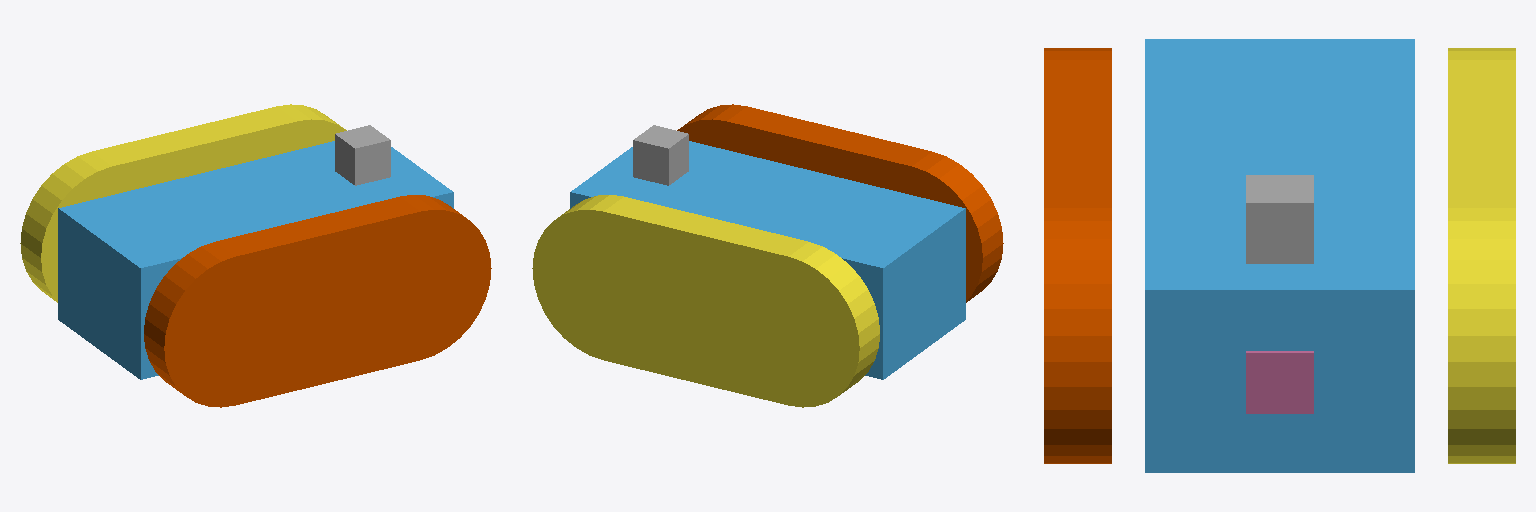
The robot description file, URDF, robot "skidbot":
<?xml version="1.0" ?>
<!-- =================================================================================== -->
<!-- |    This document was autogenerated by xacro from [local-path]/gcamp_ros2_ws/src/gcamp_ros2_basic/gcamp_gazebo/urdf/diffbot.urdf.xacro | -->
<!-- |    EDITING THIS FILE BY HAND IS NOT RECOMMENDED                                 | -->
<!-- =================================================================================== -->
<robot name="skidbot">
  <!-- diff_drive controller -->
  <gazebo>
    <plugin filename="libgazebo_ros_diff_drive.so" name="diff_drive">
      <!-- wheels -->
      <left_joint>front_left_wheel_joint</left_joint>
      <right_joint>front_right_wheel_joint</right_joint>
      <!-- kinematics -->
      <wheel_separation>0.4</wheel_separation>
      <wheel_diameter>0.18</wheel_diameter>
      <!-- limits -->
      <max_wheel_torque>10</max_wheel_torque>
      <max_wheel_acceleration>1.0</max_wheel_acceleration>
      <!-- output -->
      <publish_odom>true</publish_odom>
      <publish_odom_tf>true</publish_odom_tf>
      <publish_wheel_tf>true</publish_wheel_tf>
      <odometry_frame>odom</odometry_frame>
      <robot_base_frame>base_footprint</robot_base_frame>
    </plugin>
  </gazebo>
  <!-- camera -->
  <gazebo reference="camera">
    <sensor name="camera_sensor" type="camera">
      <update_rate>30.0</update_rate>
      <always_on>1</always_on>
      <camera name="camera">
        <horizontal_fov>1.3962634</horizontal_fov>
        <image>
          <width>800</width>
          <height>800</height>
          <format>R8G8B8</format>
        </image>
        <clip>
          <near>0.02</near>
          <far>300</far>
        </clip>
        <distortion>
          <k1>0.0</k1>
          <k2>0.0</k2>
          <k3>0.0</k3>
          <p1>0.0</p1>
          <p2>0.0</p2>
          <center>0.5 0.5</center>
        </distortion>
      </camera>
      <plugin filename="libgazebo_ros_camera.so" name="camera_controller">
        <ros>
	        <argument>--ros-args --remap camera/image_raw:=/camera/image</argument>
          <argument>--ros-args --remap camera/camera_info:=/camera/image/camera_info</argument>
        </ros>
        <camera_name>camera_sensor</camera_name>
        <frame_name>base_link</frame_name>
        <hack_baseline>0.07</hack_baseline>
      </plugin>
    </sensor>
  </gazebo>
  <!-- hokuyo -->
  <gazebo reference="hokuyo">
    <sensor name="head_hokuyo_sensor" type="ray">
      <pose>0 0 0 0 0 0</pose>
      <visualize>true</visualize>
      <update_rate>40</update_rate>
      <ray>
        <scan>
          <horizontal>
            <samples>720</samples>
            <resolution>1</resolution>
            <min_angle>-1.570796</min_angle>
            <max_angle>1.570796</max_angle>
          </horizontal>
        </scan>
        <range>
          <min>0.10</min>
          <max>30.0</max>
          <resolution>0.01</resolution>
        </range>
        <noise>
          <type>gaussian</type>
          <!-- Noise parameters based on published spec for Hokuyo laser
                achieving "+-30mm" accuracy at range < 10m.  A mean of 0.0m and
                stddev of 0.01m will put 99.7% of samples within 0.03m of the true
                reading. -->
          <mean>0.0</mean>
          <stddev>0.01</stddev>
        </noise>
      </ray>
      <update_rate>30</update_rate>
      <plugin filename="libgazebo_ros_ray_sensor.so" name="gazebo_ros_head_hokuyo_controller">
        <ros>
          <remapping>~/out:=scan</remapping>
        </ros>
        <output_type>sensor_msgs/LaserScan</output_type>
      </plugin>
    </sensor>
  </gazebo>
  <link name="base_footprint"/>
  <joint name="base_footprint_joint" type="fixed">
    <origin rpy="0 0 0" xyz="0 0 0"/>
    <parent link="base_footprint"/>
    <child link="base_link"/>
  </joint>
  <link name="base_link">
    <pose>0 0 0.1 0 0 0</pose>
    <inertial>
      <mass value="15.0"/>
      <origin rpy=" 0 0 0" xyz="0.0 0 0"/>
      <inertia ixx="0.1" ixy="0" ixz="0" iyy="0.1" iyz="0" izz="0.1"/>
    </inertial>
    <collision name="collision">
      <origin rpy=" 0 0 0" xyz="0 0 0"/>
      <geometry>
        <box size=".44 .2 .15"/>
      </geometry>
    </collision>
    <visual name="chassis_visual">
      <origin rpy=" 0 0 0" xyz="0 0 0"/>
      <geometry>
        <box size=".44 .2 .15"/>
      </geometry>
    </visual>
    <collision name="back_caster_collision">
      <origin rpy=" 0 0 0" xyz="-0.15 0 -0.05"/>
      <geometry>
        <sphere radius="0.0499"/>
      </geometry>
    </collision>
    <visual name="back_caster_visual">
      <origin rpy=" 0 0 0" xyz="-0.15 0 -0.05"/>
      <geometry>
        <sphere radius="0.05"/>
      </geometry>
    </visual>
    <collision name="front_caster_collision">
      <origin rpy=" 0 0 0" xyz="0.15 0 -0.05"/>
      <geometry>
        <sphere radius="0.0499"/>
      </geometry>
    </collision>
    <visual name="front_caster_visual">
      <origin rpy=" 0 0 0" xyz="0.15 0 -0.05"/>
      <geometry>
        <sphere radius="0.05"/>
      </geometry>
    </visual>
  </link>
  <link name="front_left_wheel">
    <inertial>
      <mass value="8.0"/>
      <origin rpy=" 0 1.5707 1.5707" xyz="0.0 0 0"/>
      <inertia ixx="0.1" ixy="0" ixz="0" iyy="0.1" iyz="0" izz="0.1"/>
    </inertial>
    <collision>
      <origin rpy=" 0 1.5707 1.5707" xyz="0.0 0 0"/>
      <geometry>
        <cylinder length="0.05" radius="0.1"/>
      </geometry>
    </collision>
  </link>
  <!-- <link name="back_left_wheel"> -->
  <!-- Dummy -->
  <!-- </link> -->
  <link name="left_track">
    <visual name="left_track_visual">
      <origin rpy="1.5708 0 1.5708" xyz="0 0 0"/>
      <geometry>
        <box size="0.05 0.2 0.26"/>
      </geometry>
    </visual>
    <visual name="left_track_visual_1">
      <origin rpy="1.5708 -0 0" xyz="0.13 0 0"/>
      <geometry>
        <cylinder length="0.05" radius="0.1"/>
      </geometry>
    </visual>
    <visual name="left_track_visual_2">
      <origin rpy="1.5708 -0 0" xyz="-0.13 0 0"/>
      <geometry>
        <cylinder length="0.05" radius="0.1"/>
      </geometry>
    </visual>
  </link>
  <link name="front_right_wheel">
    <inertial>
      <mass value="8.0"/>
      <origin rpy=" 0 1.5707 1.5707" xyz="0.0 0 0"/>
      <inertia ixx="0.1" ixy="0" ixz="0" iyy="0.1" iyz="0" izz="0.1"/>
    </inertial>
    <collision>
      <origin rpy=" 0 1.5707 1.5707" xyz="0.0 0 0"/>
      <geometry>
        <cylinder length="0.05" radius="0.1"/>
      </geometry>
    </collision>
  </link>
  <!-- <link name="back_right_wheel"> -->
  <!-- Dummy -->
  <!-- </link> -->
  <link name="right_track">
    <visual name="right_track_visual">
      <origin rpy="1.5708 0 1.5708" xyz="0 0 0"/>
      <geometry>
        <box size="0.05 0.2 0.26"/>
      </geometry>
    </visual>
    <visual name="right_track_visual_1">
      <origin rpy="1.5708 -0 0" xyz="0.13 0 0"/>
      <geometry>
        <cylinder length="0.05" radius="0.1"/>
      </geometry>
    </visual>
    <visual name="right_track_visual_2">
      <origin rpy="1.5708 -0 0" xyz="-0.13 0 0"/>
      <geometry>
        <cylinder length="0.05" radius="0.1"/>
      </geometry>
    </visual>
  </link>
  <link name="camera">
    <inertial>
      <mass value="0.1"/>
      <origin rpy=" 0 0 0" xyz="0.05 0.05 0.05"/>
      <inertia ixx="1e-6" ixy="0" ixz="0" iyy="1e-6" iyz="0" izz="1e-6"/>
    </inertial>
    <visual name="camera_visual">
      <origin rpy="0 0 0" xyz="0 0 0"/>
      <geometry>
        <box size="0.05 0.05 0.05"/>
      </geometry>
    </visual>
    <collision name="camera_colision">
      <origin rpy="0 0 0" xyz="0 0 0"/>
      <geometry>
        <box size="0.05 0.05 0.05"/>
      </geometry>
    </collision>
  </link>
  <link name="hokuyo">
    <inertial>
      <mass value="1e-5"/>
      <origin rpy=" 0 0 0" xyz="0 0 0"/>
      <inertia ixx="1e-6" ixy="0" ixz="0" iyy="1e-6" iyz="0" izz="1e-6"/>
    </inertial>
    <visual name="hokuyo_visual">
      <origin rpy="0 0 0" xyz="0 0 0"/>
      <geometry>
        <box size="0.05 0.05 0.05"/>
      </geometry>
    </visual>
    <collision name="hokuyo_colision">
      <origin rpy="0 0 0" xyz="0 0 0"/>
      <geometry>
        <box size="0.1 0.1 0.1"/>
      </geometry>
    </collision>
  </link>
  <joint name="front_left_wheel_joint" type="continuous">
    <origin rpy="0 0 0" xyz="0.0 0.15 0"/>
    <child link="front_left_wheel"/>
    <parent link="base_link"/>
    <axis rpy="0 0 0" xyz="0 1 0"/>
    <limit effort="10000" velocity="1000"/>
    <dynamics damping="1.0" friction="1.0"/>
  </joint>
  <joint name="front_right_wheel_joint" type="continuous">
    <origin rpy="0 0 0" xyz="0.0 -0.15 0"/>
    <child link="front_right_wheel"/>
    <parent link="base_link"/>
    <axis rpy="0 0 0" xyz="0 1 0"/>
    <limit effort="10000" velocity="1000"/>
    <dynamics damping="1.0" friction="1.0"/>
  </joint>
  <joint name="right_track_joint" type="fixed">
    <origin rpy="0 0 0" xyz="0 -0.15 0"/>
    <child link="right_track"/>
    <parent link="base_link"/>
  </joint>
  <joint name="left_track_joint" type="fixed">
    <origin rpy="0 0 0" xyz="0 0.15 0"/>
    <child link="left_track"/>
    <parent link="base_link"/>
  </joint>
  <joint name="camera_joint" type="fixed">
    <origin rpy="0 0 0" xyz="0.2 0 0"/>
    <child link="camera"/>
    <parent link="base_link"/>
    <axis rpy="0 0 0" xyz="0 1 0"/>
  </joint>
  <joint name="hokuyo_joint" type="fixed">
    <origin rpy="0 0 0" xyz="0.15 0 0.1"/>
    <child link="hokuyo"/>
    <parent link="base_link"/>
    <axis rpy="0 0 0" xyz="0 1 0"/>
  </joint>
  <gazebo reference="base_link">
    <material>Gazebo/Green</material>
  </gazebo>
  <gazebo reference="left_track">
    <material>Gazebo/Black</material>
  </gazebo>
  <gazebo reference="right_track">
    <material>Gazebo/Black</material>
  </gazebo>
  <gazebo reference="camera">
    <material>Gazebo/Gray</material>
  </gazebo>
  <gazebo reference="hokuyo">
    <material>Gazebo/Black</material>
  </gazebo>
</robot>

--- What the picture shows (computed from the rendered views, not written in the file) ---
The picture shows the robot from 3 angles, left to right: view 1: azimuth 30°, elevation 25°; view 2: azimuth 150°, elevation 25°; view 3: azimuth 270°, elevation 25°; orthographic projection.
Robot: skidbot — 8 links, 7 joints (2 continuous, 5 fixed); root link base_footprint; default pose: every joint at zero.
Visible links, largest first — view 1: right_track, base_link, left_track, hokuyo; view 2: left_track, base_link, right_track, hokuyo; view 3: base_link, left_track, right_track, hokuyo, camera.
Link boxes in pixels (x1,y1,x2,y2): right_track: [144, 195, 491, 407]; base_link: [58, 141, 453, 379]; left_track: [20, 104, 346, 302]; hokuyo: [335, 125, 390, 185]; left_track: [532, 195, 879, 407]; base_link: [570, 141, 965, 379]; right_track: [677, 104, 1003, 302]; hokuyo: [633, 125, 688, 185]; base_link: [1145, 39, 1414, 472]; left_track: [1448, 48, 1515, 463]; right_track: [1044, 48, 1111, 463]; hokuyo: [1246, 175, 1313, 263]; camera: [1246, 351, 1313, 413].
Size in the robot's own frame: 0.46 by 0.35 by 0.225 metres.
Geometry: primitives only (box / cylinder / sphere), no mesh files.
